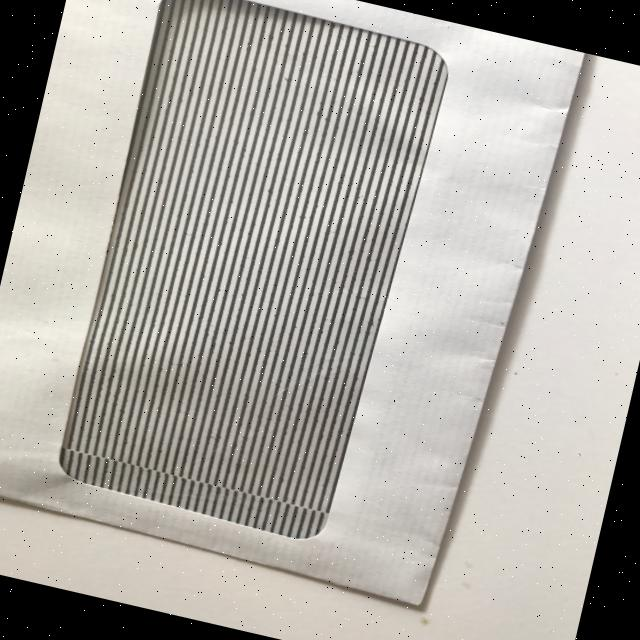paper: (0, 0, 583, 615)
